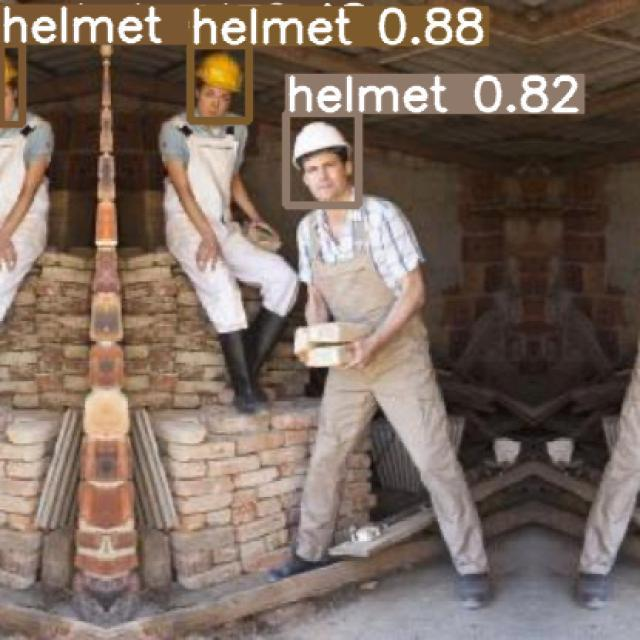white helmet: (292, 121, 353, 177)
yellow helmet: (197, 49, 245, 101)
